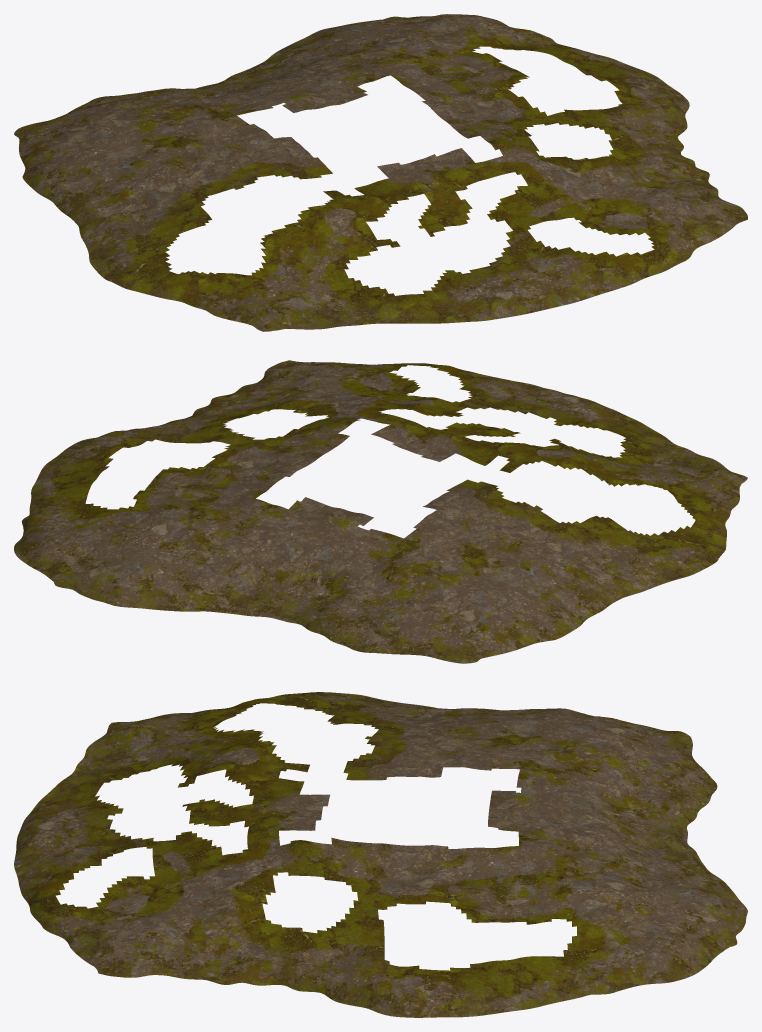
File: sar_terrain.gltf
3 views of the same model, one above another, from view 1: azimuth 30°, elevation 25°; view 2: azimuth 150°, elevation 25°; view 3: azimuth 270°, elevation 25° (orthographic). The views are drawn at different scales.
Parts seen in each view (by area): view 1: sar_terrain; view 2: sar_terrain; view 3: sar_terrain.
Part boxes in pixels (<box>): sar_terrain: <box>14,14,747,331</box>; sar_terrain: <box>14,360,747,663</box>; sar_terrain: <box>14,692,747,1017</box>.
Size of the model in its own units: 11.16 by 0.8438 by 10.63.
1 material, 1 textured.
